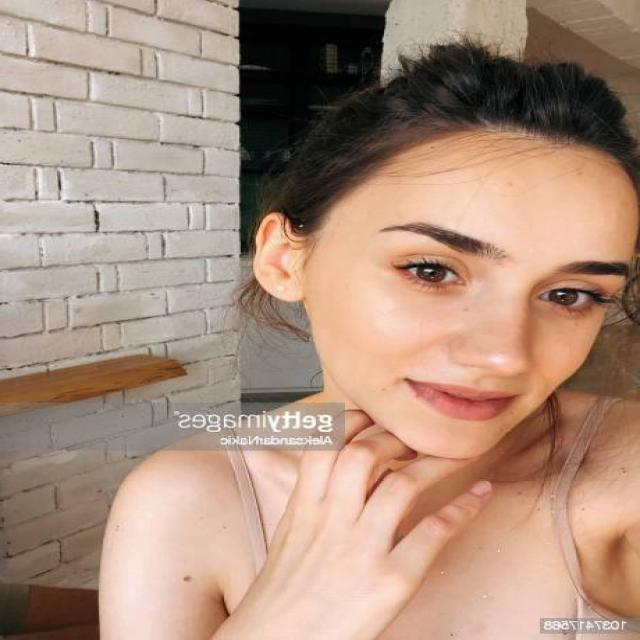earlobe: (271, 273, 306, 303)
eye: (395, 258, 471, 289), (537, 283, 602, 312)
nose: (460, 361, 528, 393)
wholeear: (253, 213, 306, 303)
